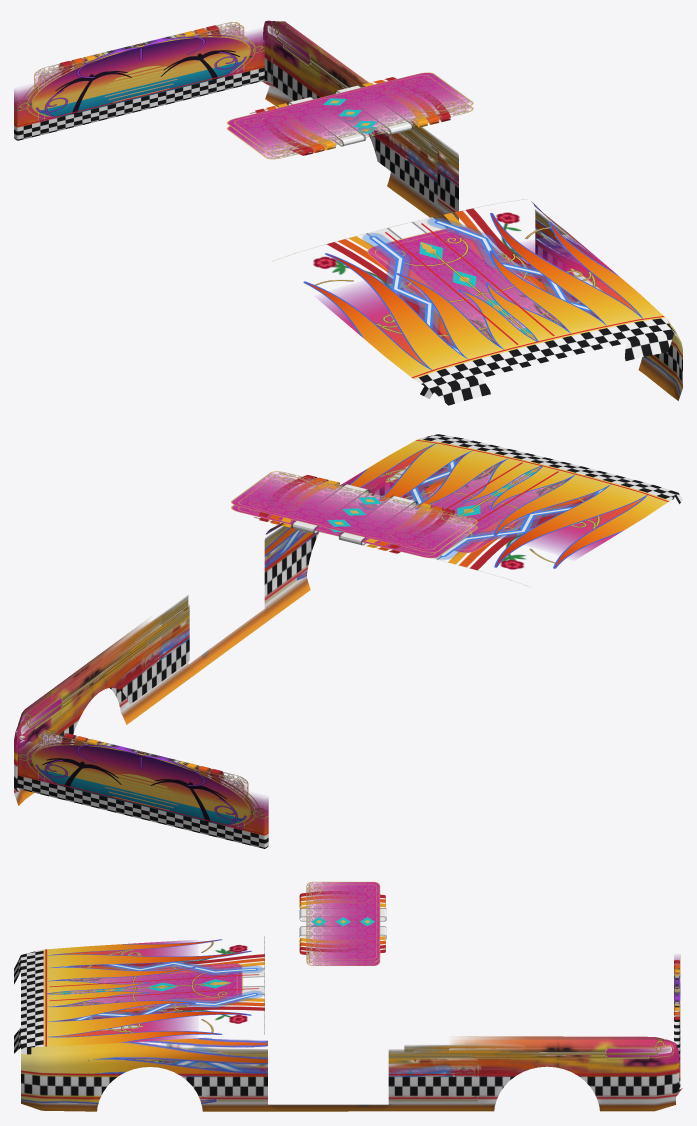
The model's file is DusterRidge54Vinyls.glb.
The picture shows the model from 3 angles, top to bottom: view 1: azimuth 30°, elevation 25°; view 2: azimuth 150°, elevation 25°; view 3: azimuth 270°, elevation 25°; orthographic projection. The views are drawn at different scales.
Parts seen in each view (by area): view 1: DusterRidge54Livery_flames_hood, DusterRidge54Livery_mural_trunk, DusterRidge54Livery_patterns_roof, DusterRidge54Livery_checker_hood, DusterRidge54Livery_patterns_hood, DusterRidge54Livery_purple_lace_roof, DusterRidge54Livery_checker_side, DusterRidge54Livery_lightning_hood, DusterRidge54Livery_checker_trunk, DusterRidge54Livery_purple_lace_hood, DusterRidge54Livery_sunset_fade_hood, DusterRidge54Livery_retro_waves_hood (+20 smaller); view 2: DusterRidge54Livery_flames_hood, DusterRidge54Livery_mural_trunk, DusterRidge54Livery_patterns_roof, DusterRidge54Livery_purple_lace_roof, DusterRidge54Livery_checker_side, DusterRidge54Livery_checker_trunk, DusterRidge54Livery_tropical_side, DusterRidge54Livery_sunset_fade_side, DusterRidge54Livery_retro_waves_side, DusterRidge54Livery_patterns_hood, DusterRidge54Livery_checker_hood, DusterRidge54Livery_sunset_fade_hood (+17 smaller); view 3: DusterRidge54Livery_checker_side, DusterRidge54Livery_flames_hood, DusterRidge54Livery_flames_side, DusterRidge54Livery_patterns_roof, DusterRidge54Livery_retro_waves_side, DusterRidge54Livery_tropical_side, DusterRidge54Livery_purple_lace_roof, DusterRidge54Livery_patterns_hood, DusterRidge54Livery_sunset_fade_side, DusterRidge54Livery_stripes_side, DusterRidge54Livery_checker_hood, DusterRidge54Livery_lightning_hood (+17 smaller).
Part boxes in pixels (<box>): DusterRidge54Livery_flames_hood: <box>303,213,665,378</box>; DusterRidge54Livery_mural_trunk: <box>14,31,264,119</box>; DusterRidge54Livery_patterns_roof: <box>227,72,472,159</box>; DusterRidge54Livery_checker_hood: <box>385,223,677,405</box>; DusterRidge54Livery_patterns_hood: <box>367,226,562,343</box>; DusterRidge54Livery_purple_lace_roof: <box>228,76,472,158</box>; DusterRidge54Livery_checker_side: <box>262,54,682,387</box>; DusterRidge54Livery_lightning_hood: <box>362,217,596,353</box>; DusterRidge54Livery_checker_trunk: <box>14,65,264,140</box>; DusterRidge54Livery_purple_lace_hood: <box>407,239,560,341</box>; DusterRidge54Livery_sunset_fade_hood: <box>321,239,638,365</box>; DusterRidge54Livery_retro_waves_hood: <box>326,208,599,346</box>; DusterRidge54Livery_flames_hood: <box>349,439,669,568</box>; DusterRidge54Livery_mural_trunk: <box>17,739,268,827</box>; DusterRidge54Livery_patterns_roof: <box>231,471,477,557</box>; DusterRidge54Livery_purple_lace_roof: <box>236,471,476,556</box>; DusterRidge54Livery_checker_side: <box>14,485,390,792</box>; DusterRidge54Livery_checker_trunk: <box>17,773,268,848</box>; DusterRidge54Livery_tropical_side: <box>14,620,153,761</box>; DusterRidge54Livery_sunset_fade_side: <box>14,577,310,805</box>; DusterRidge54Livery_retro_waves_side: <box>14,531,318,766</box>; DusterRidge54Livery_patterns_hood: <box>422,463,568,552</box>; DusterRidge54Livery_checker_hood: <box>416,434,682,523</box>; DusterRidge54Livery_sunset_fade_hood: <box>340,446,642,556</box>; DusterRidge54Livery_checker_side: <box>21,1069,679,1099</box>; DusterRidge54Livery_flames_hood: <box>43,939,251,1046</box>; DusterRidge54Livery_flames_side: <box>21,1038,657,1103</box>; DusterRidge54Livery_patterns_roof: <box>306,882,379,965</box>; DusterRidge54Livery_retro_waves_side: <box>133,1044,679,1076</box>; DusterRidge54Livery_tropical_side: <box>454,1036,679,1073</box>; DusterRidge54Livery_purple_lace_roof: <box>307,882,374,965</box>; DusterRidge54Livery_patterns_hood: <box>52,963,242,1009</box>; DusterRidge54Livery_sunset_fade_side: <box>21,1046,682,1111</box>; DusterRidge54Livery_stripes_side: <box>21,1089,681,1107</box>; DusterRidge54Livery_checker_hood: <box>14,949,258,1054</box>; DusterRidge54Livery_lightning_hood: <box>60,961,263,1020</box>.
Size of the model in its own units: 6.95 by 4.39 by 19.2.
50 materials, 50 textured.
